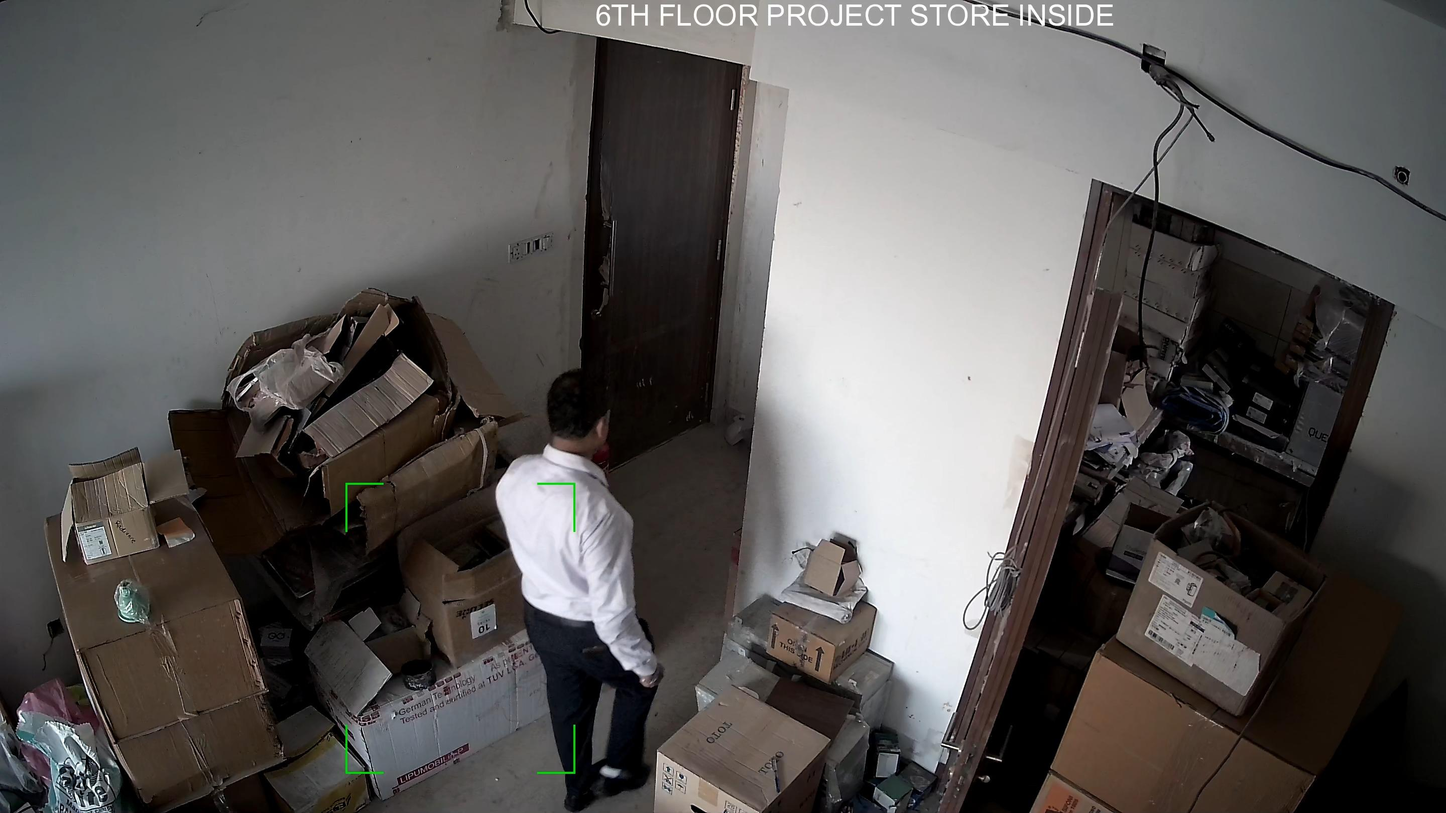Door-Close: (569, 34, 757, 455)
